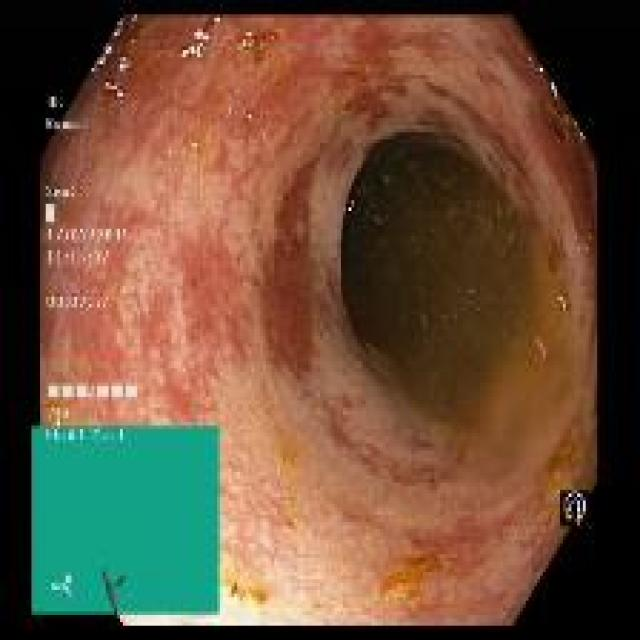ulcerative-colitis: (40, 17, 596, 624)
